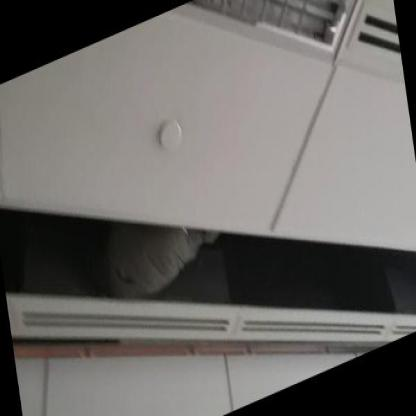light_off: (158, 0, 378, 128)
